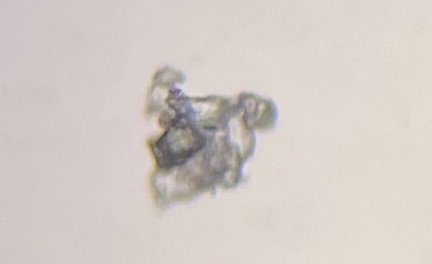microplastic: (144, 66, 277, 210)
